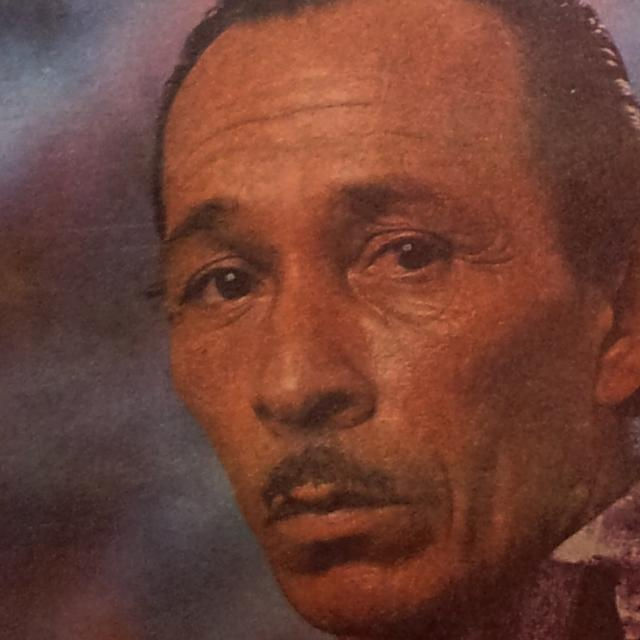Depress: (164, 0, 605, 637)
